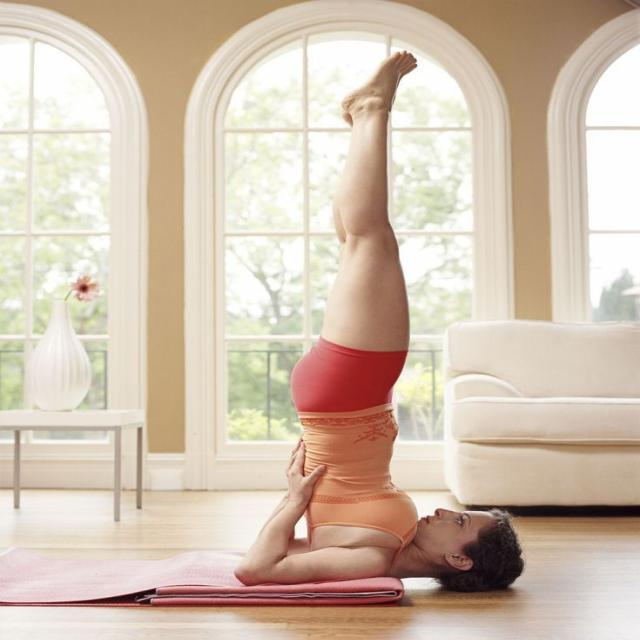yoga-pose shoulderstand: (233, 47, 524, 590)
